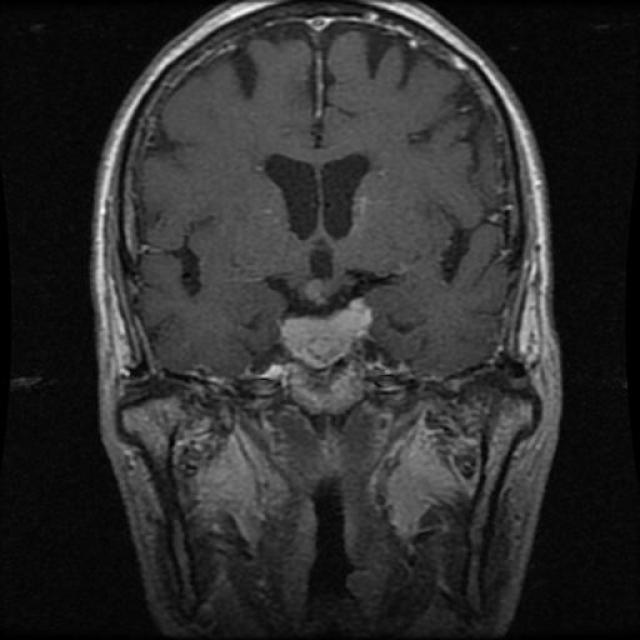pituitary: (264, 271, 384, 386)
